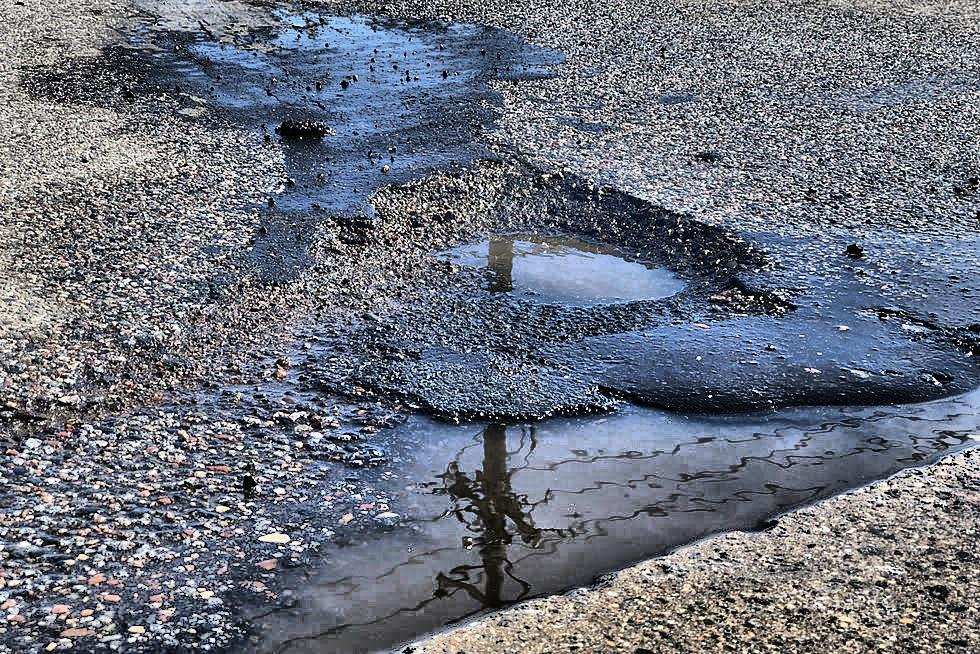pothole: (219, 378, 971, 646), (367, 177, 757, 330)
